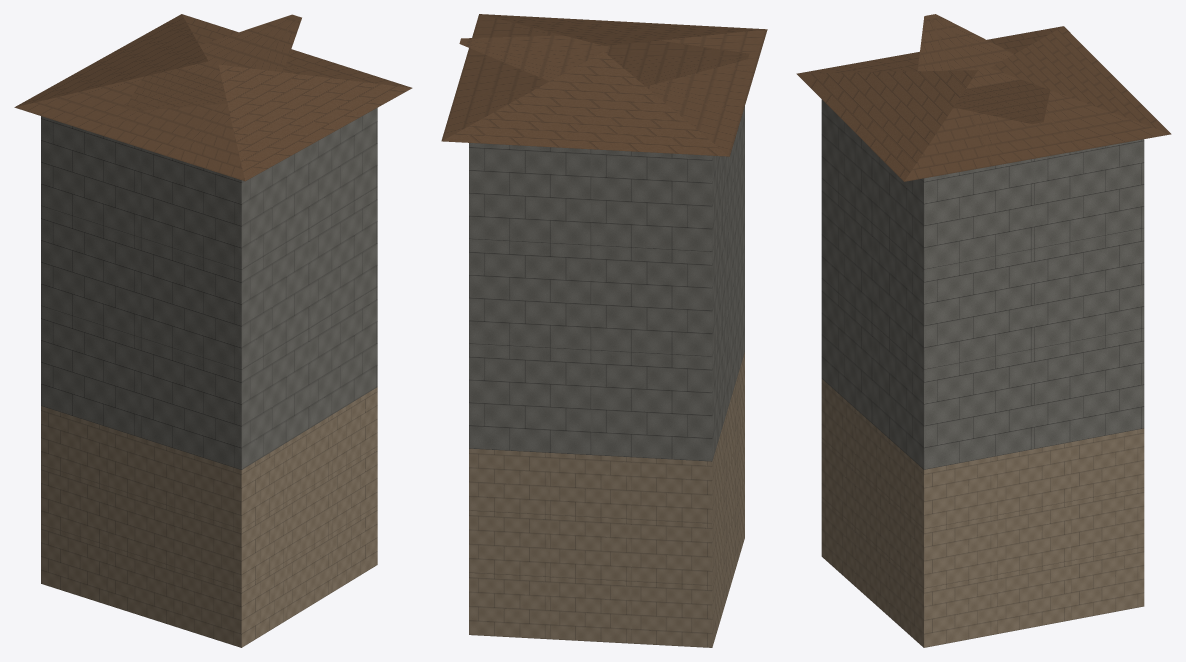
File: bld_c16_26_400.gltf
3 views of the same model, side by side, from view 1: azimuth 30°, elevation 25°; view 2: azimuth 150°, elevation 25°; view 3: azimuth 270°, elevation 25° (orthographic). The views are drawn at different scales.
Visible parts, largest first — view 1: bld_c16_26_400; view 2: bld_c16_26_400; view 3: bld_c16_26_400.
Part boxes in pixels (x1,y1,x2,y2): bld_c16_26_400: (14, 14, 412, 647); bld_c16_26_400: (441, 14, 767, 647); bld_c16_26_400: (796, 14, 1171, 647).
Bounding box in the file's own units: 9.57 × 14.7 × 9.74.
3 materials, 3 textured.
